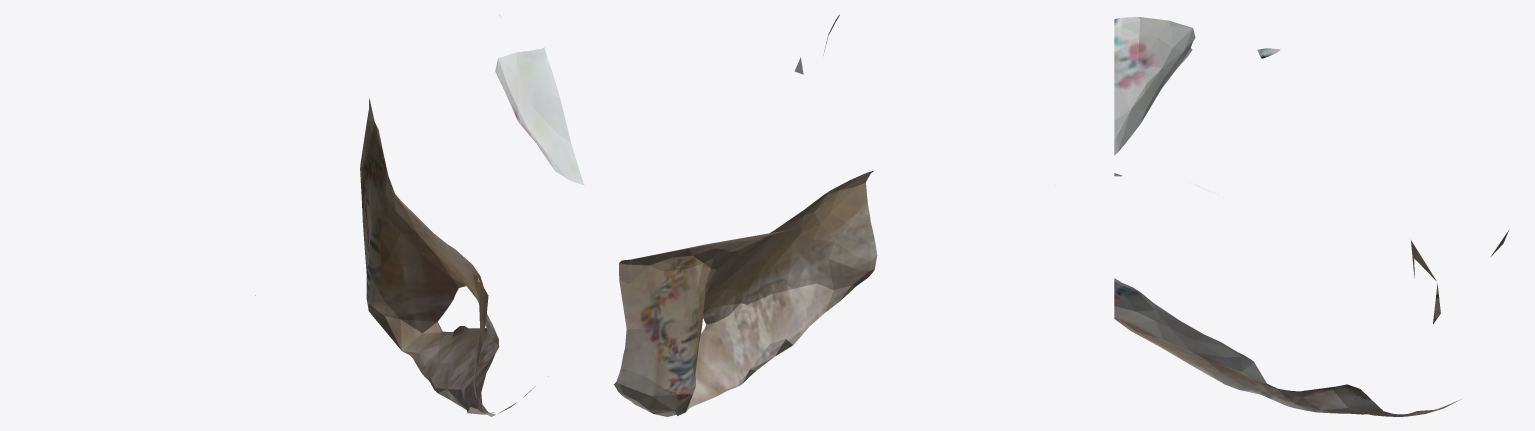
3 views of the same model, side by side, from view 1: azimuth 30°, elevation 25°; view 2: azimuth 150°, elevation 25°; view 3: azimuth 270°, elevation 25° (orthographic). The views are drawn at different scales.
Size of the model in its own units: 171 by 171 by 171.
1 material, 1 textured.
